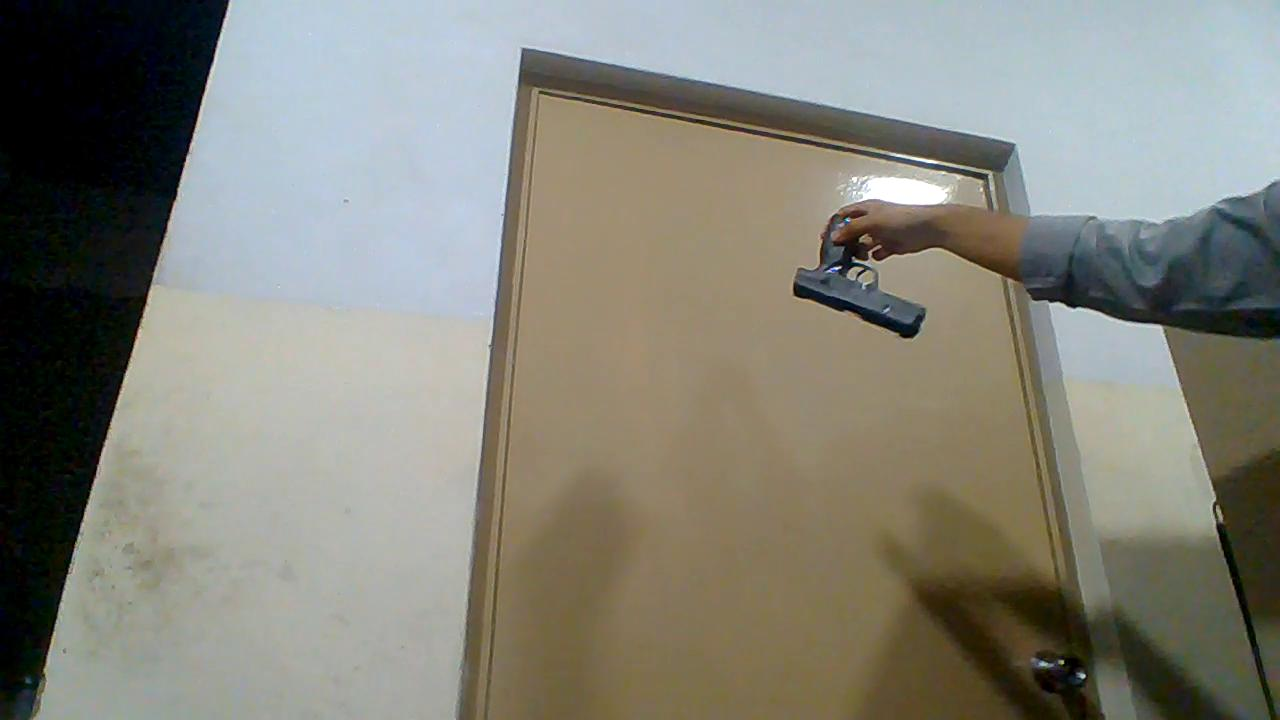weapon: (788, 214, 926, 338)
